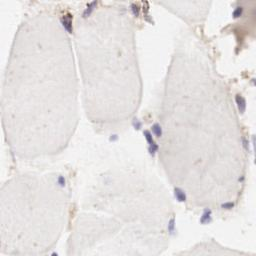nucleus: (143, 131, 160, 157), (60, 19, 74, 35), (201, 207, 213, 225), (234, 95, 246, 112), (174, 186, 186, 202), (132, 117, 144, 131), (85, 1, 95, 17), (152, 123, 162, 136), (168, 217, 176, 233), (221, 201, 234, 209), (109, 132, 119, 142), (233, 8, 242, 18), (253, 135, 256, 165), (131, 5, 139, 16), (58, 176, 65, 186), (242, 139, 249, 148), (250, 78, 256, 86), (50, 252, 59, 256), (239, 176, 244, 181)
positive_cell: (57, 8, 74, 35), (130, 1, 141, 17)
